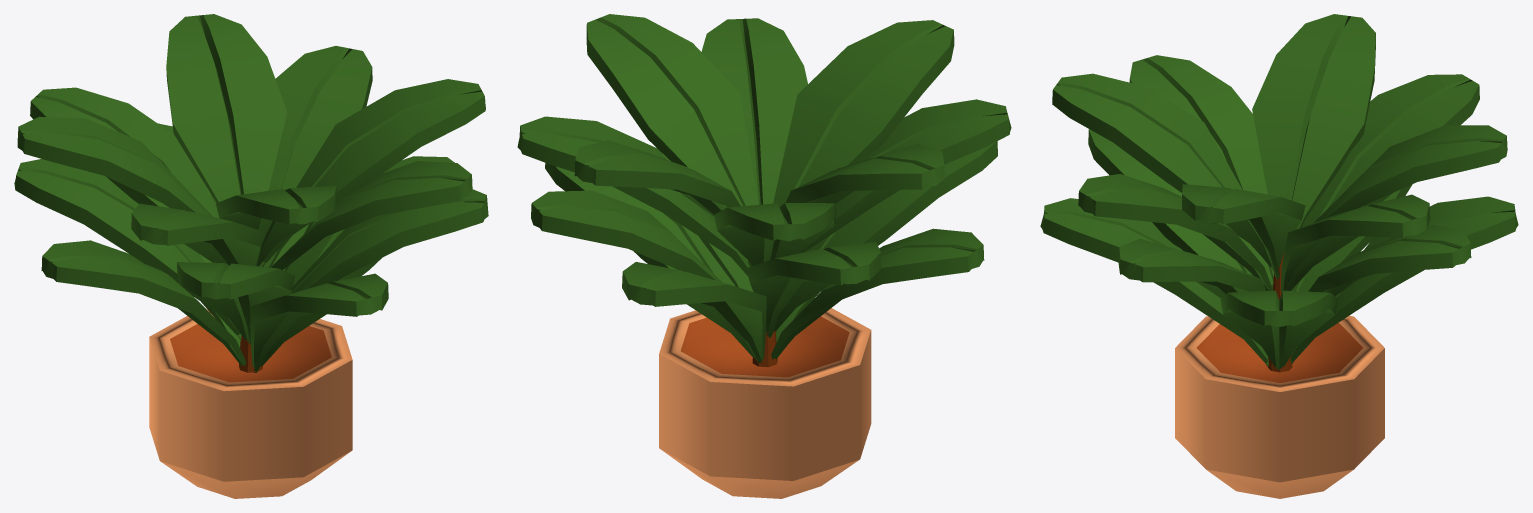
The model's file is maceta.glb.
The picture shows the model from 3 angles, left to right: view 1: azimuth 30°, elevation 25°; view 2: azimuth 150°, elevation 25°; view 3: azimuth 270°, elevation 25°; orthographic projection. The views are drawn at different scales.
Parts seen in each view (by area): view 1: Circle, Plane.014, Plane.013, Plane.010, Plane.004, Plane.012, Plane.005, Plane.009, Plane.003, Plane.008, Plane.001, Plane.011 (+3 smaller); view 2: Circle, Plane.013, Plane.015, Plane.009, Plane.006, Plane.011, Plane.010, Plane, Plane.003, Plane.004, Plane.014, Plane.008 (+4 smaller); view 3: Circle, Plane.012, Plane.015, Plane.008, Plane.011, Plane.014, Plane.001, Plane.010, Plane.009, Plane.013, Plane.002, Plane (+4 smaller).
Part boxes in pixels (left/top/right/bottom): Circle: left=149, top=309, right=352, bottom=498; Plane.014: left=166, top=14, right=287, bottom=202; Plane.013: left=259, top=79, right=485, bottom=266; Plane.010: left=263, top=46, right=372, bottom=267; Plane.004: left=14, top=159, right=241, bottom=340; Plane.012: left=17, top=116, right=212, bottom=216; Plane.005: left=289, top=189, right=488, bottom=294; Plane.009: left=271, top=161, right=472, bottom=270; Plane.003: left=41, top=240, right=245, bottom=365; Plane.008: left=30, top=87, right=218, bottom=217; Plane.001: left=250, top=273, right=388, bottom=372; Plane.011: left=131, top=203, right=264, bottom=266; Circle: left=659, top=308, right=871, bottom=498; Plane.013: left=586, top=14, right=757, bottom=206; Plane.015: left=773, top=20, right=954, bottom=207; Plane.009: left=701, top=18, right=807, bottom=204; Plane.006: left=531, top=190, right=722, bottom=282; Plane.011: left=798, top=99, right=1011, bottom=253; Plane.010: left=517, top=116, right=749, bottom=276; Plane: left=622, top=262, right=766, bottom=362; Plane.003: left=771, top=228, right=984, bottom=359; Plane.004: left=746, top=242, right=881, bottom=338; Plane.014: left=574, top=140, right=740, bottom=216; Plane.008: left=714, top=203, right=836, bottom=265; Circle: left=1175, top=315, right=1384, bottom=498; Plane.012: left=1252, top=14, right=1375, bottom=251; Plane.015: left=1052, top=73, right=1273, bottom=270; Plane.008: left=1302, top=74, right=1479, bottom=227; Plane.011: left=1129, top=55, right=1273, bottom=289; Plane.014: left=1314, top=125, right=1507, bottom=222; Plane.001: left=1040, top=198, right=1268, bottom=366; Plane.010: left=1280, top=194, right=1430, bottom=291; Plane.009: left=1078, top=174, right=1272, bottom=290; Plane.013: left=1182, top=184, right=1305, bottom=279; Plane.002: left=1220, top=290, right=1337, bottom=372; Plane: left=1290, top=196, right=1518, bottom=363.
Size of the model in its own units: 9.15 by 7.71 by 9.23.
